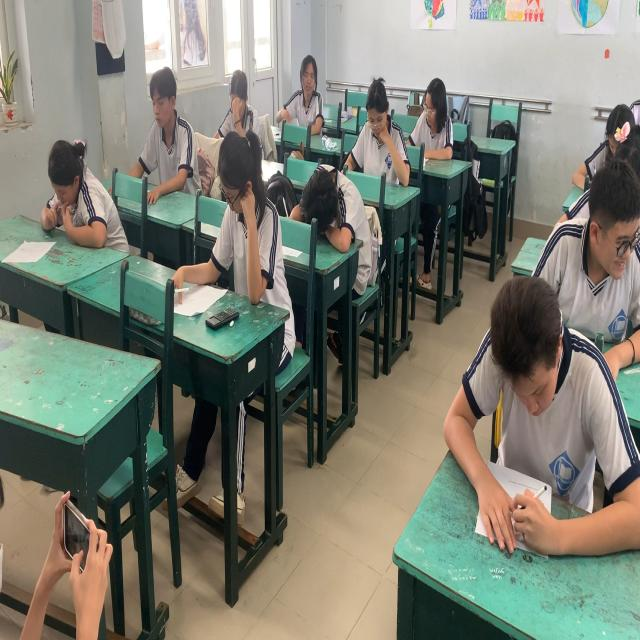cheating: (520, 174, 640, 336), (274, 31, 330, 130)
not_cheating: (428, 288, 633, 592), (202, 110, 286, 356), (38, 115, 123, 297), (554, 86, 640, 251), (288, 137, 373, 303), (118, 24, 200, 184), (563, 46, 640, 190), (347, 62, 412, 218), (399, 66, 462, 176), (207, 51, 256, 148)
